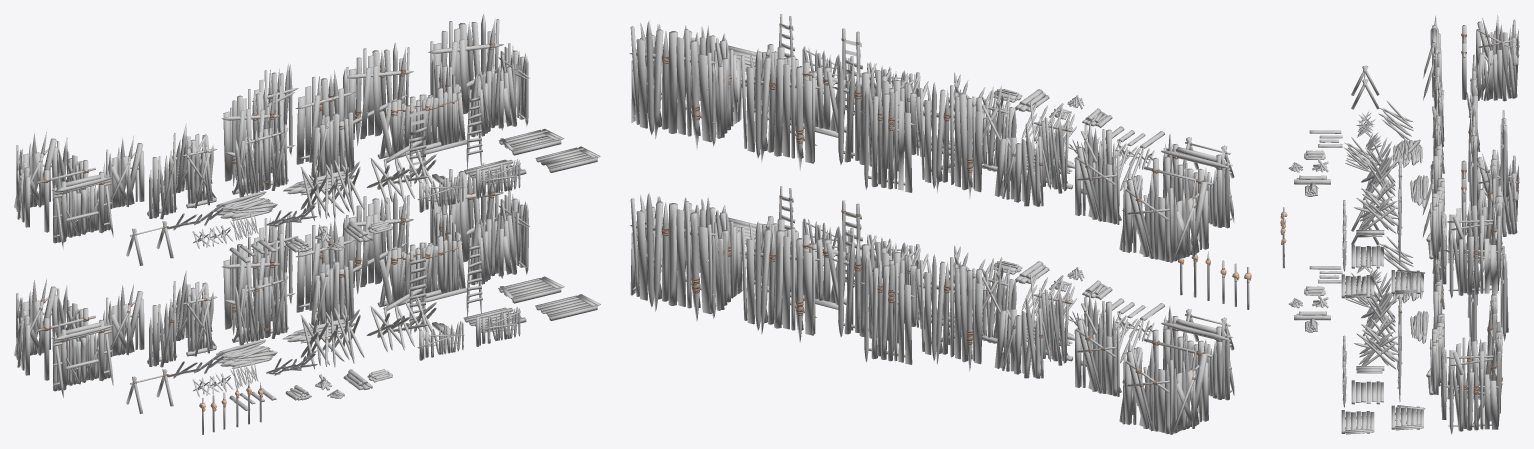
The model's file is Spiked Walls and Logs A.fbx.
3 renders of one model, left to right at view 1: azimuth 30°, elevation 25°; view 2: azimuth 150°, elevation 25°; view 3: azimuth 270°, elevation 25°, orthographic. The views are drawn at different scales.
Parts seen in each view (by area): view 1: Camp_Wall_1A13.001, Camp_Wall_1A13, Camp_Wall_1A7.001, Camp_Wall_1A7, Camp_Wall_1A12.001, Camp_Wall_1A12, Camp_Wall_1A14, Camp_Wall_1A14.001, Camp_Wall_1A3, Camp_Wall_1A3.001, Camp_Wall_1A9.001, Camp_Wall_1A10.001 (+44 smaller); view 2: Camp_Wall_1A13, Camp_Wall_1A13.001, Camp_Wall_1A12, Camp_Wall_1A12.001, Camp_Wall_1A14, Camp_Wall_1A14.001, Camp_Wall_1A9, Camp_Wall_1A9.001, Camp_Wall_1A11, Camp_Wall_1A11.001, Camp_Wall_1A10, Camp_Wall_1A10.001 (+30 smaller); view 3: Camp_Wall_1A13, Camp_Wall_1A13.001, Camp_Wall_1A14.001, Camp_Wall_1A14, Spiked_Defenses_1A5, Spiked_Defenses_1A5.001, Spiked_Defenses_1A6.001, Spiked_Defenses_1A6, Camp_Wall_1A7, Camp_Wall_1A7.001, Wall_Flooring_1A1, Wall_Flooring_1A1.001 (+35 smaller).
Part boxes in pixels (bbox=[...]): Camp_Wall_1A13.001: bbox=[428, 14, 529, 130]; Camp_Wall_1A13: bbox=[428, 162, 529, 278]; Camp_Wall_1A7.001: bbox=[377, 86, 467, 162]; Camp_Wall_1A7: bbox=[377, 234, 466, 310]; Camp_Wall_1A12.001: bbox=[346, 42, 413, 146]; Camp_Wall_1A12: bbox=[346, 191, 413, 294]; Camp_Wall_1A14: bbox=[14, 278, 83, 375]; Camp_Wall_1A14.001: bbox=[14, 131, 82, 227]; Camp_Wall_1A3: bbox=[232, 270, 288, 345]; Camp_Wall_1A3.001: bbox=[232, 121, 288, 197]; Camp_Wall_1A9.001: bbox=[222, 87, 280, 186]; Camp_Wall_1A10.001: bbox=[295, 69, 355, 164]; Camp_Wall_1A13: bbox=[630, 192, 742, 321]; Camp_Wall_1A13.001: bbox=[629, 20, 741, 149]; Camp_Wall_1A12: bbox=[739, 221, 820, 342]; Camp_Wall_1A12.001: bbox=[739, 49, 819, 170]; Camp_Wall_1A14: bbox=[1119, 338, 1208, 434]; Camp_Wall_1A14.001: bbox=[1119, 166, 1208, 262]; Camp_Wall_1A9: bbox=[919, 254, 986, 371]; Camp_Wall_1A9.001: bbox=[918, 82, 987, 199]; Camp_Wall_1A11: bbox=[859, 255, 914, 364]; Camp_Wall_1A11.001: bbox=[859, 83, 914, 192]; Camp_Wall_1A10: bbox=[831, 234, 898, 343]; Camp_Wall_1A10.001: bbox=[831, 62, 899, 171]; Camp_Wall_1A13: bbox=[1443, 321, 1502, 434]; Camp_Wall_1A13.001: bbox=[1442, 186, 1502, 298]; Camp_Wall_1A14.001: bbox=[1476, 14, 1519, 101]; Camp_Wall_1A14: bbox=[1477, 150, 1519, 236]; Spiked_Defenses_1A5: bbox=[1354, 314, 1402, 369]; Spiked_Defenses_1A5.001: bbox=[1354, 179, 1402, 233]; Spiked_Defenses_1A6.001: bbox=[1361, 137, 1399, 201]; Spiked_Defenses_1A6: bbox=[1361, 272, 1399, 337]; Camp_Wall_1A7: bbox=[1426, 313, 1444, 395]; Camp_Wall_1A7.001: bbox=[1426, 178, 1446, 259]; Wall_Flooring_1A1: bbox=[1391, 405, 1425, 430]; Wall_Flooring_1A1.001: bbox=[1391, 269, 1424, 294].
Size of what is drawn, in the model's own units: 5338 by 2560 by 2397.
